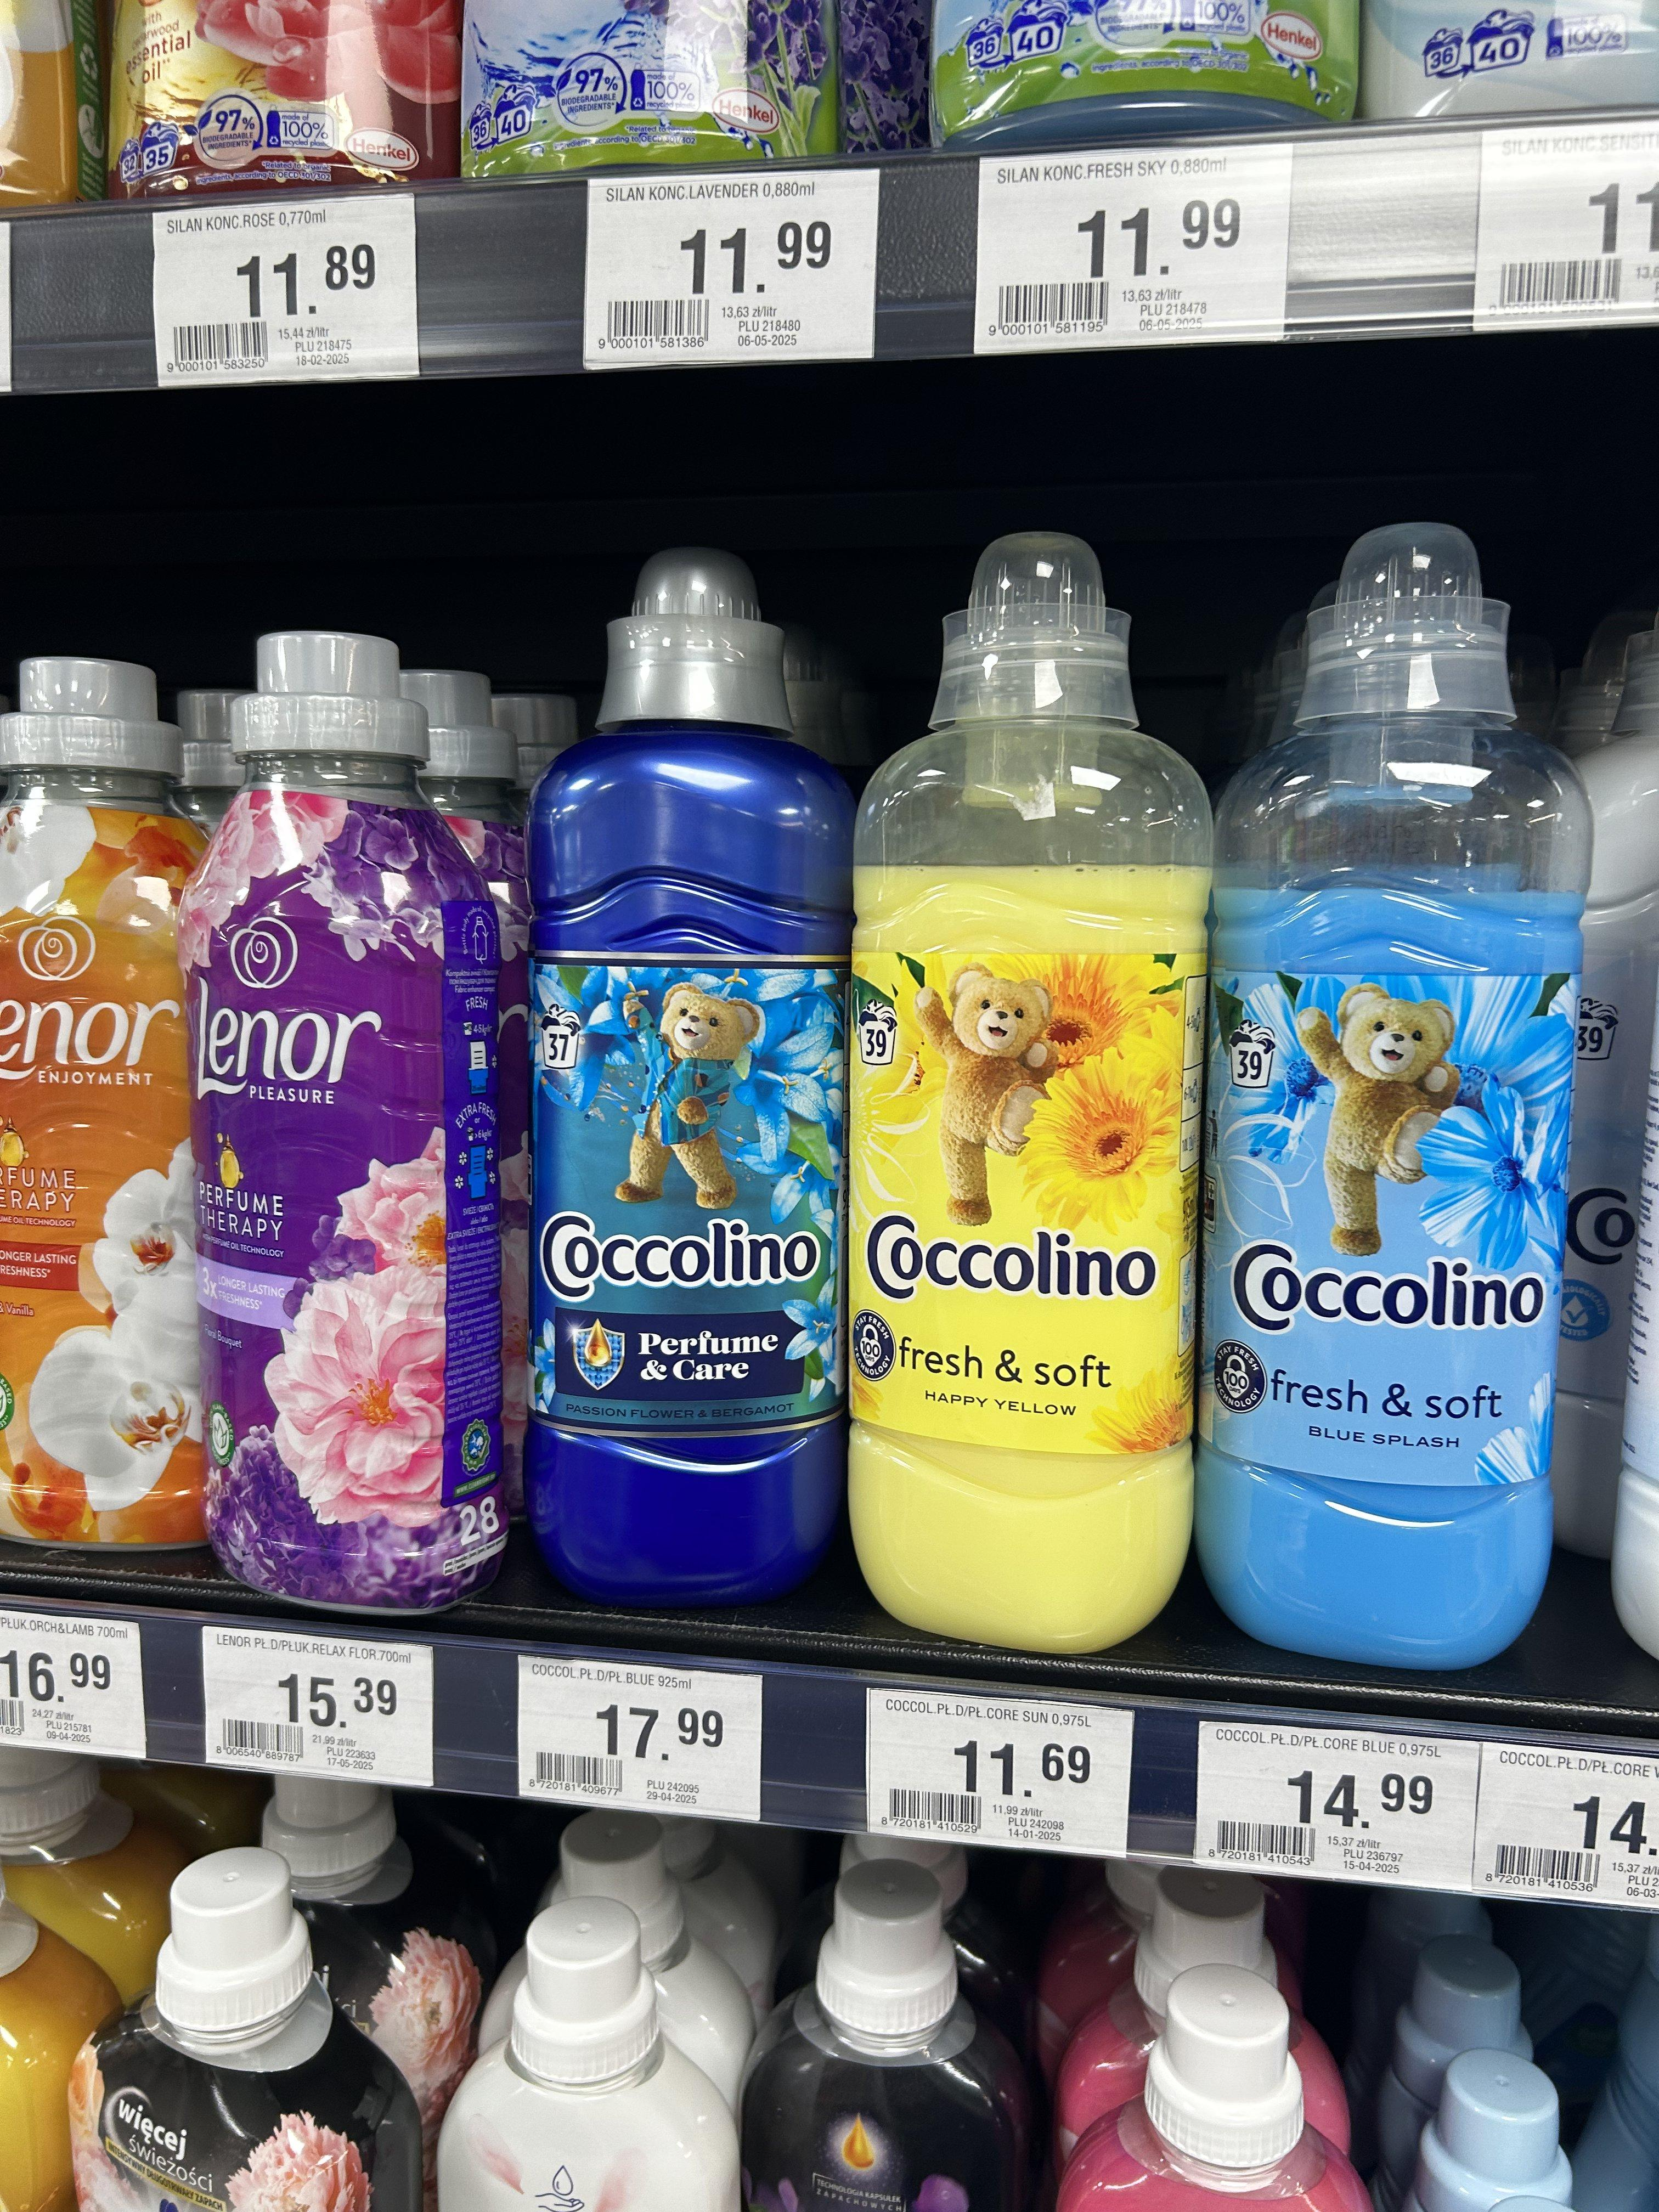cocolino: (1213, 505, 1556, 1683), (842, 523, 1192, 1662), (507, 519, 854, 1611)
